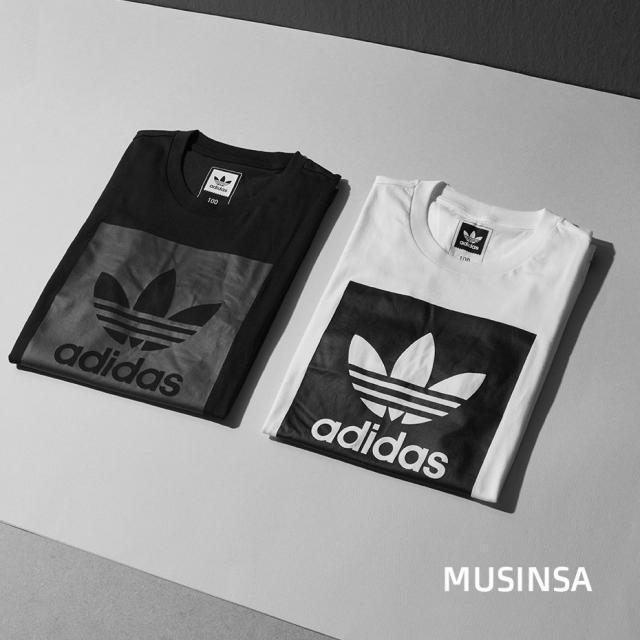Adidas: (335, 312, 507, 438), (83, 248, 232, 360), (450, 216, 492, 254), (207, 165, 243, 201)
